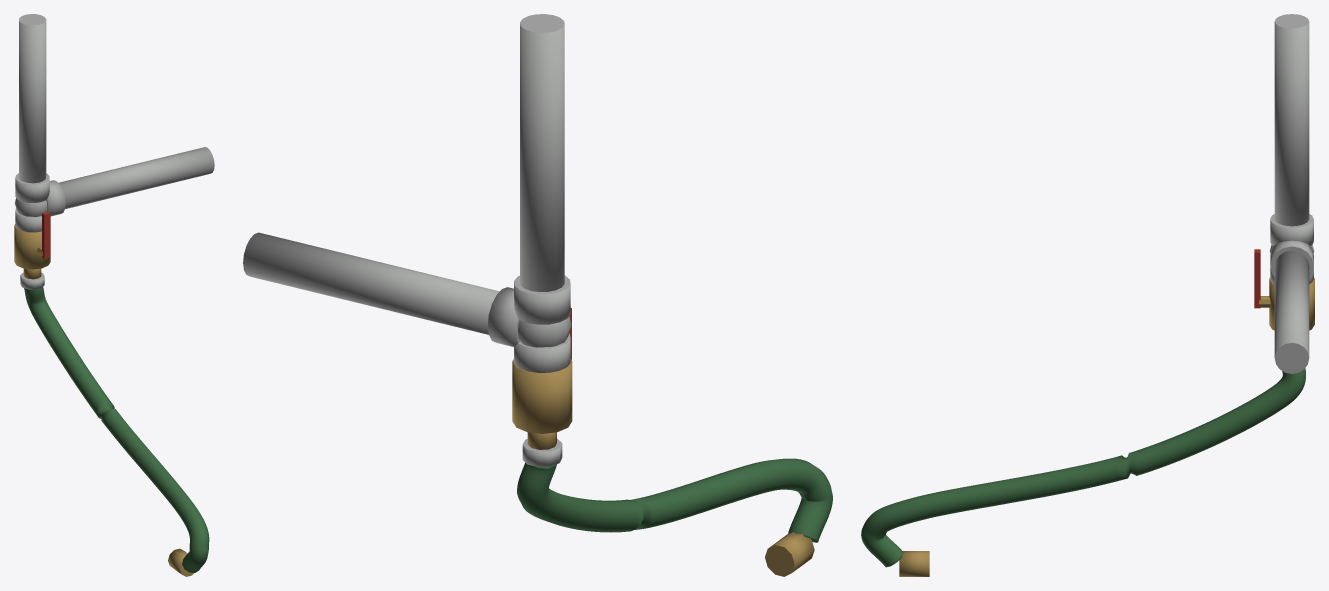
The model's file is barrel_fill_front1.obj.
3 views of the same model, side by side, from view 1: azimuth 30°, elevation 25°; view 2: azimuth 150°, elevation 25°; view 3: azimuth 270°, elevation 25° (orthographic). The views are drawn at different scales.
Parts seen in each view (by area): view 1: hose, pipe4, pipe2, valve_body, elbow_socket4, elbow_socket2, elbow_socket1, elbow_hub, valve_lever, nozzle, hose_collar; view 2: pipe4, hose, pipe2, valve_body, elbow_socket4, nozzle, elbow_socket1, elbow_socket2, elbow_hub, hose_collar; view 3: hose, pipe4, pipe2, elbow_socket4, nozzle, elbow_socket2.
Boxes of the visible parts, x1,y1,x2,y2 form: hose: [24, 287, 209, 572]; pipe4: [19, 14, 46, 183]; pipe2: [58, 147, 214, 209]; valve_body: [14, 224, 50, 269]; elbow_socket4: [15, 173, 49, 202]; elbow_socket2: [46, 180, 65, 216]; elbow_socket1: [15, 208, 41, 232]; elbow_hub: [15, 198, 47, 216]; valve_lever: [42, 211, 50, 258]; nozzle: [168, 548, 193, 576]; hose_collar: [20, 272, 44, 289]; pipe4: [520, 14, 564, 291]; hose: [517, 458, 832, 542]; pipe2: [243, 232, 499, 334]; valve_body: [512, 359, 572, 433]; elbow_socket4: [514, 275, 570, 324]; nozzle: [765, 532, 814, 576]; elbow_socket1: [514, 333, 570, 372]; elbow_socket2: [487, 287, 520, 346]; elbow_hub: [518, 316, 571, 347]; hose_collar: [522, 438, 562, 467]; hose: [861, 368, 1305, 567]; pipe4: [1274, 14, 1309, 226]; pipe2: [1274, 250, 1309, 373]; elbow_socket4: [1270, 214, 1313, 245]; nozzle: [899, 551, 929, 576]; elbow_socket2: [1270, 240, 1313, 276].
Bounding box in the file's own units: 0.545 × 1.2 × 0.8942.
Materials: 4 (4 with a texture image).
